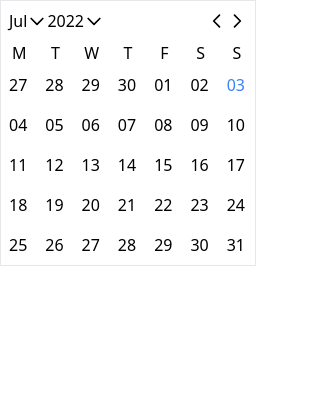
Calendar › changes month with dropdown
What coordinates should you click on to do the following:
click the button with test id "monthDropdownTrigger"
I would click on:
 (28, 21)
Its box is [9,9,47,33].
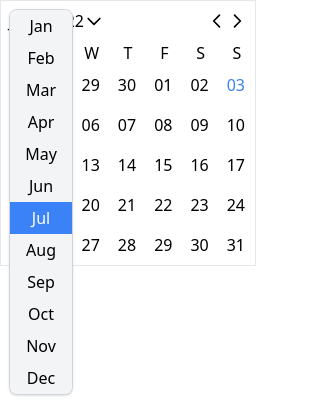
What coordinates should you click on to do the following:
click the option "Mar"
I would click on:
 (41, 90)
Its box is [10,74,72,106].
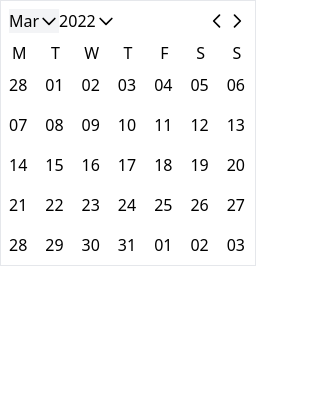
Expected: the button with test id "monthDropdownTrigger" is shown, [9,9,59,33]
Expected: the heading "Mar 2022" is shown, [9,9,116,33]
